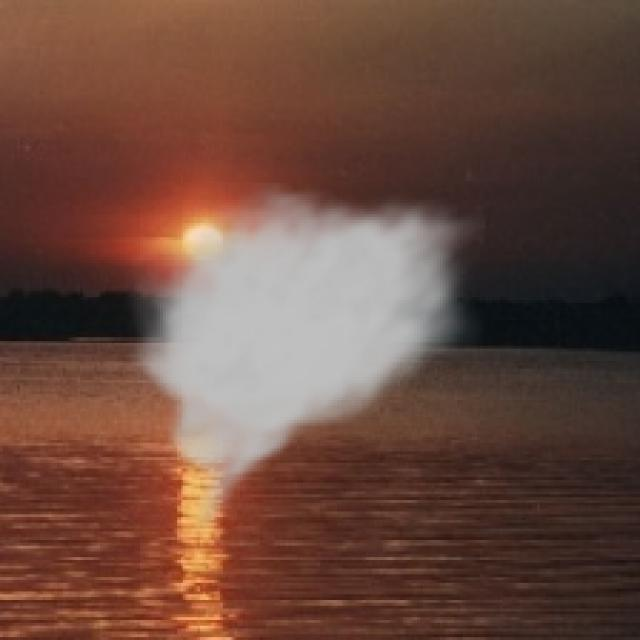smoke: (123, 183, 486, 540)
